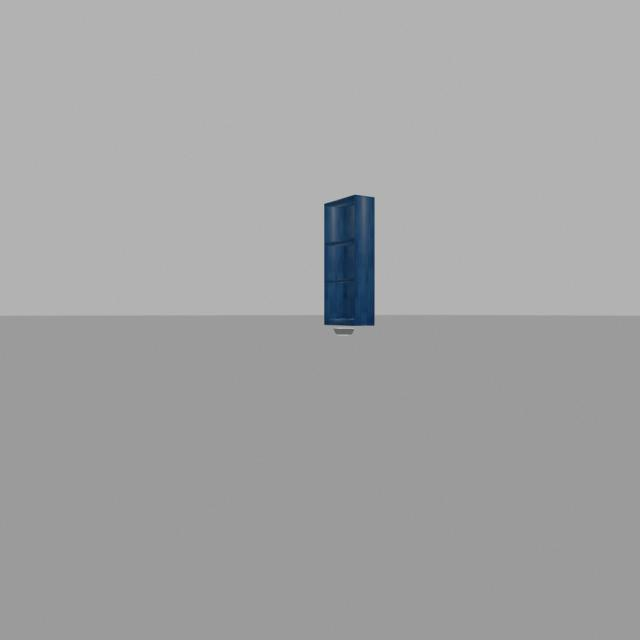bowl: (332, 320, 359, 338)
shelf: (313, 184, 385, 329)
